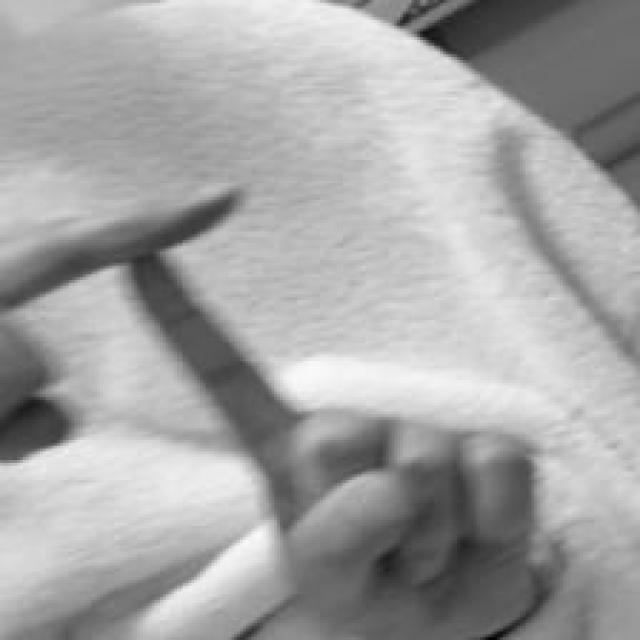T: (1, 173, 532, 640)
